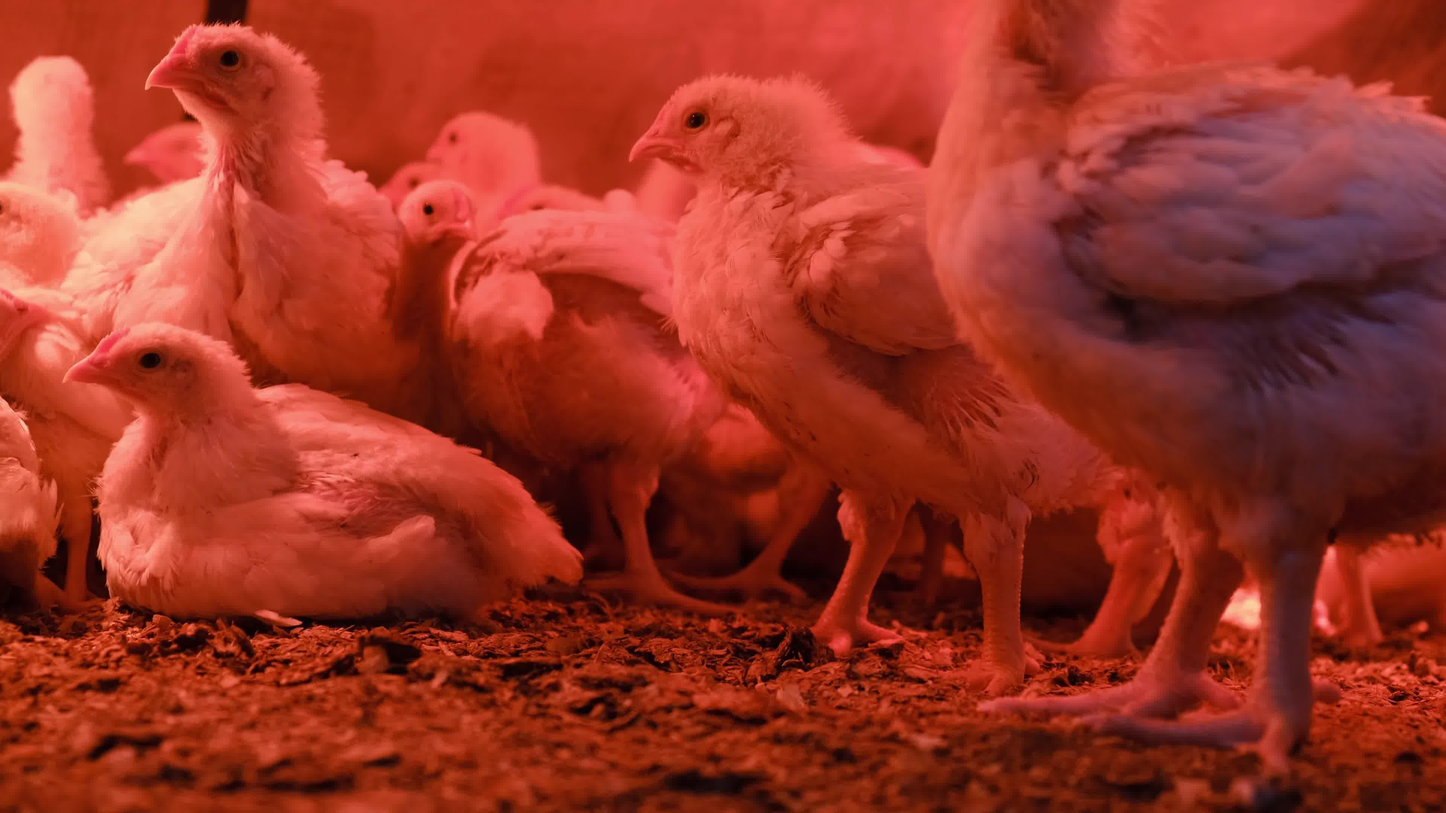AbNormal: (64, 322, 569, 619), (0, 279, 61, 632), (1308, 518, 1446, 655)
Normal: (923, 0, 1446, 769), (627, 76, 1105, 675), (412, 110, 703, 605), (75, 19, 426, 411), (0, 174, 131, 614), (375, 183, 486, 432), (12, 53, 104, 211), (123, 117, 209, 188), (377, 158, 447, 196)
